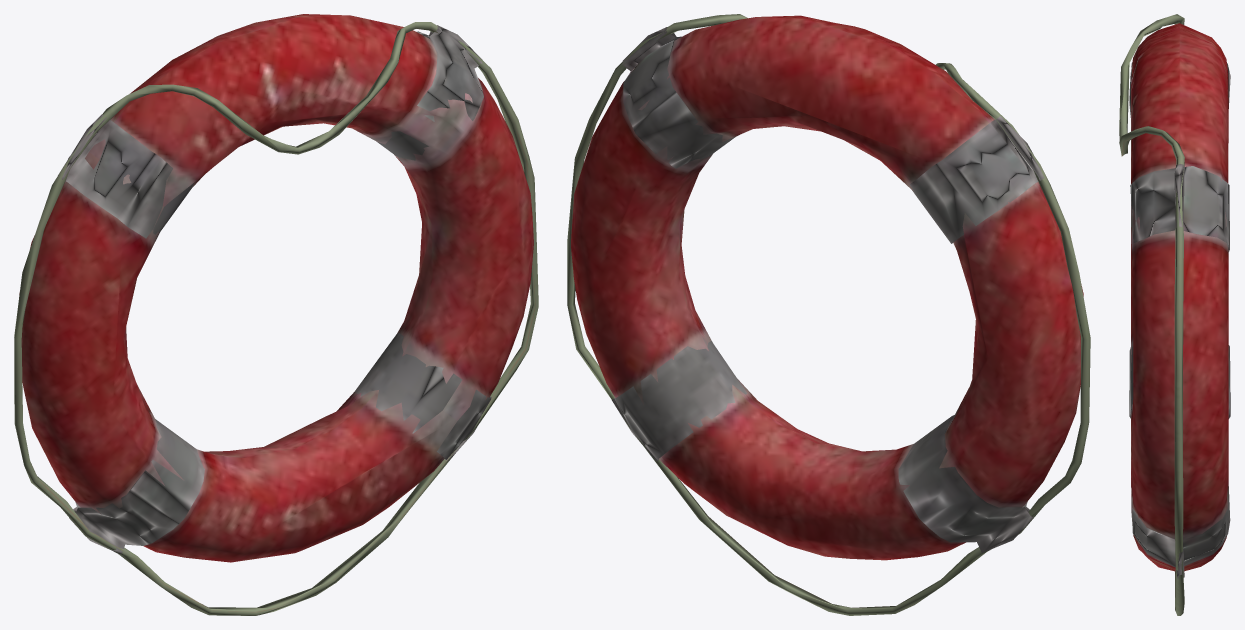
Rendered from lifebuoy.glb.
3 views of the same model, side by side, from view 1: azimuth 30°, elevation 25°; view 2: azimuth 150°, elevation 25°; view 3: azimuth 270°, elevation 25° (orthographic). The views are drawn at different scales.
Visible parts, largest first — view 1: lifebuoy; view 2: lifebuoy; view 3: lifebuoy.
Part boxes in pixels (x1,y1,x2,y2): lifebuoy: [14, 14, 538, 615]; lifebuoy: [567, 14, 1090, 615]; lifebuoy: [1119, 14, 1230, 615].
Bounding box in the file's own units: 0.7814 × 0.8396 × 0.1534.
Materials: 1 (1 with a texture image).
